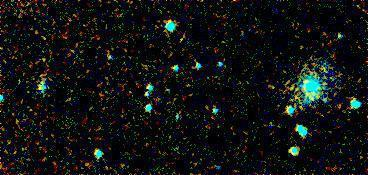star: (302, 84, 332, 114)
